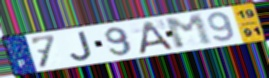7: (29, 33, 57, 69)
9: (206, 10, 237, 43), (104, 25, 135, 57)
A: (137, 19, 176, 55)
J: (69, 30, 95, 62)
M: (163, 12, 216, 50)
